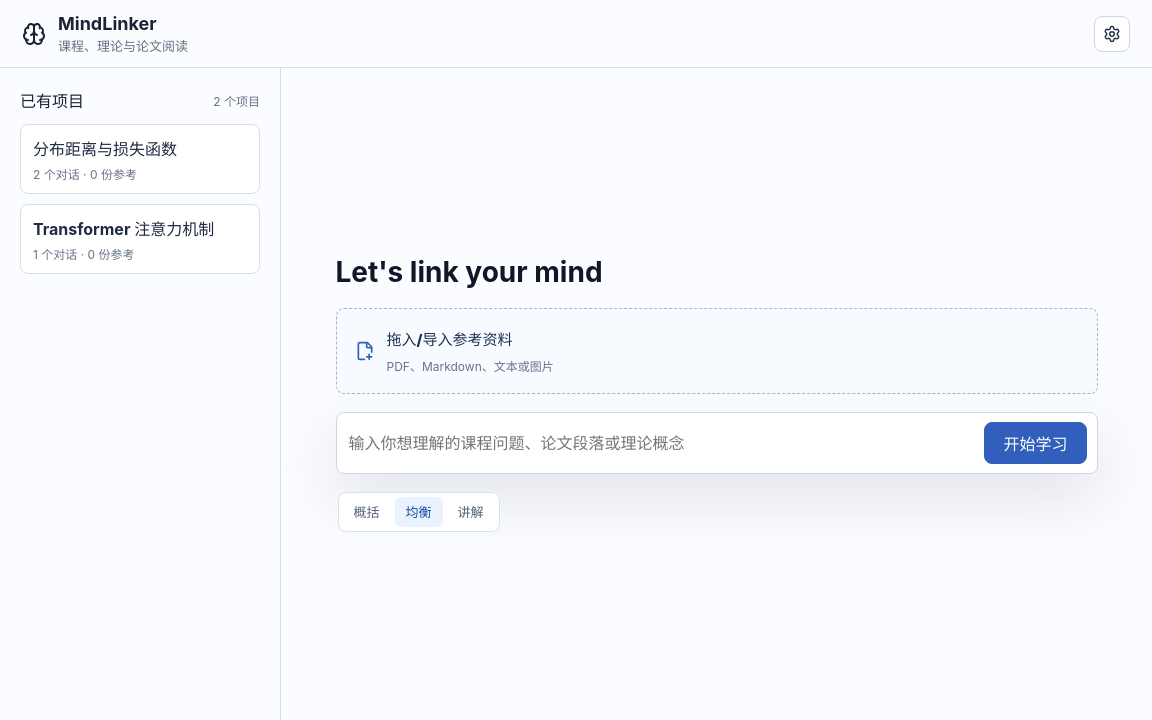
Test: MindLinker shell › strips bare bracket ids from rendered main answers
The width and height of the screenshot is (1152, 720).
Click the button named "打开设置".
click(1112, 34)  # box [1094, 16, 1130, 52]
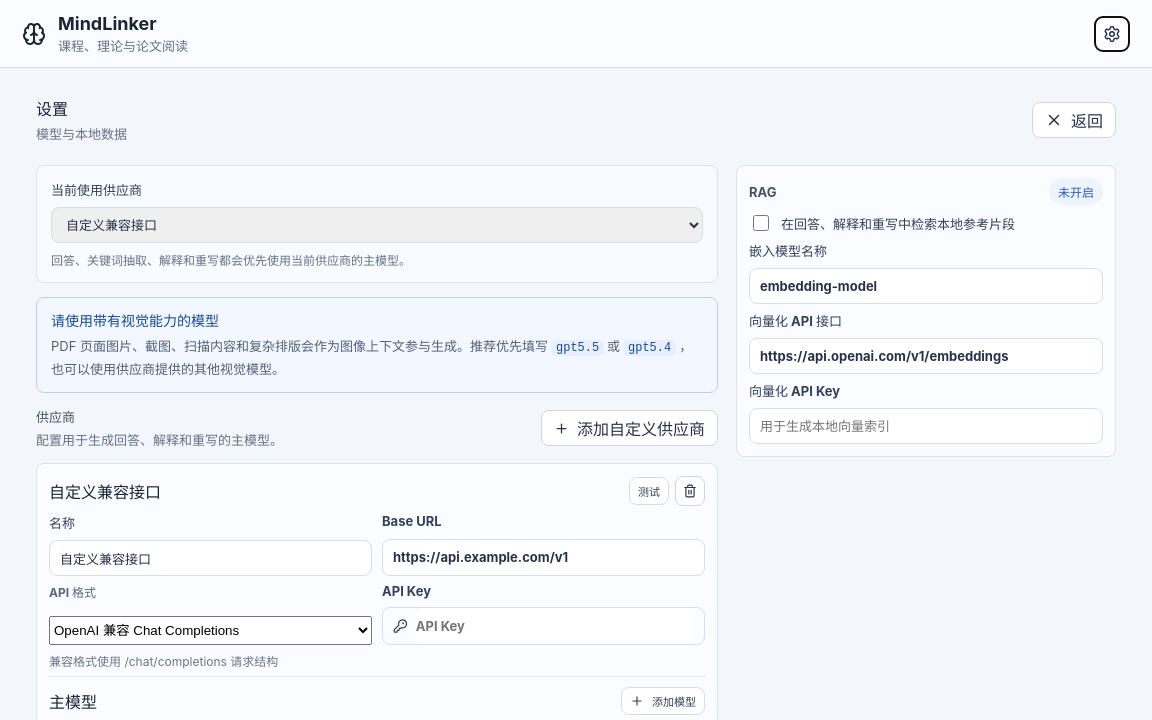
Replace the text in the field named "供应商 custom-compatible Base URL" with "https://api.local.test/v1" at (544, 557), box [382, 539, 705, 576]
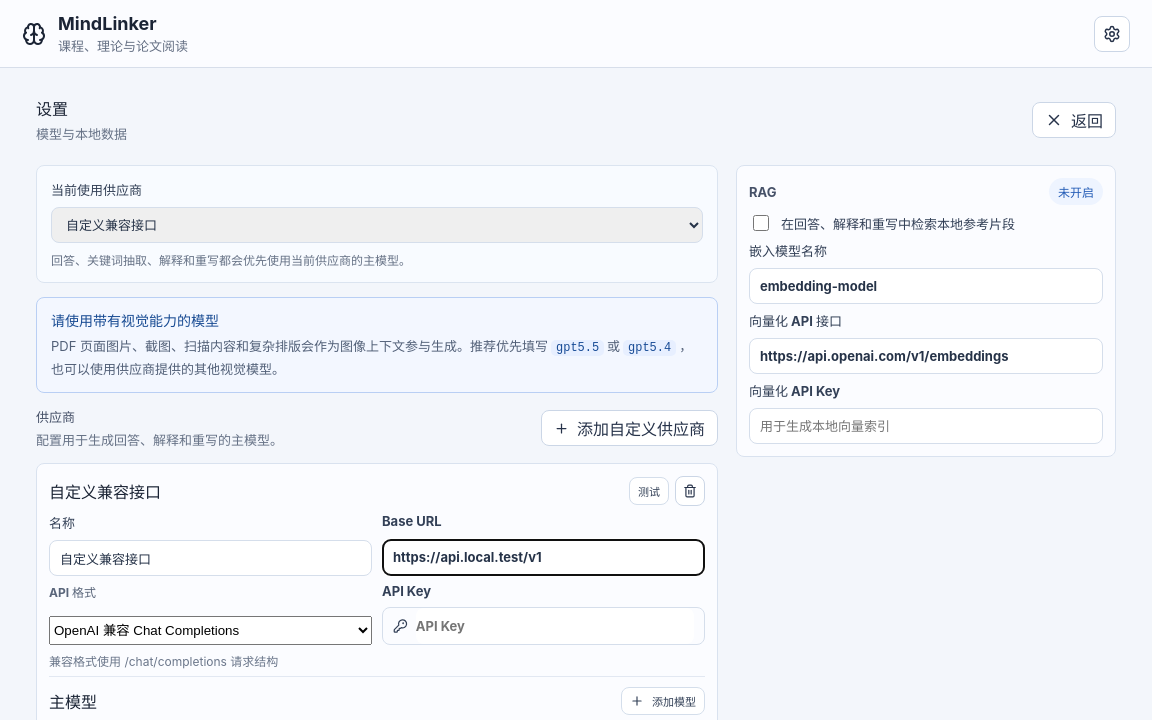
Type "test-token" into the password field named "自定义兼容接口 API Key".
click(555, 626); type("test-token")  # box [416, 608, 694, 644]
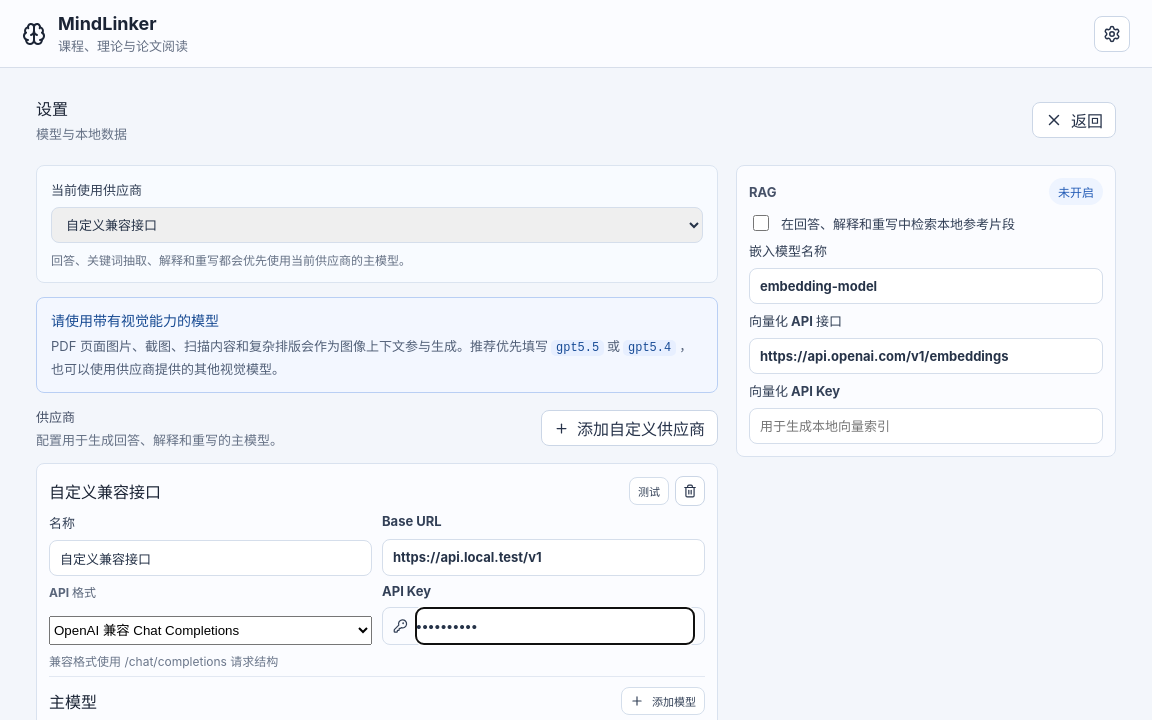
Click the button "返回".
click(1074, 120)  # box [1032, 102, 1116, 138]
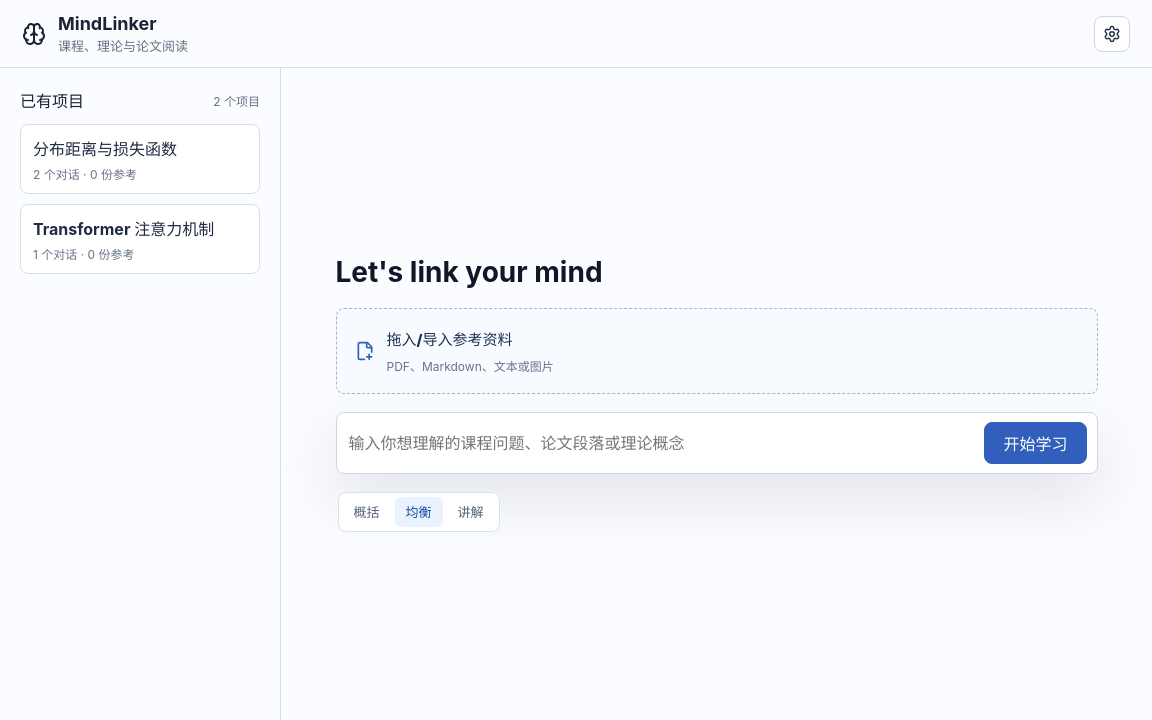
Type "解释 Jensen" into the field named "学习问题".
click(660, 443); type("解释 Jensen")  # box [346, 423, 974, 463]
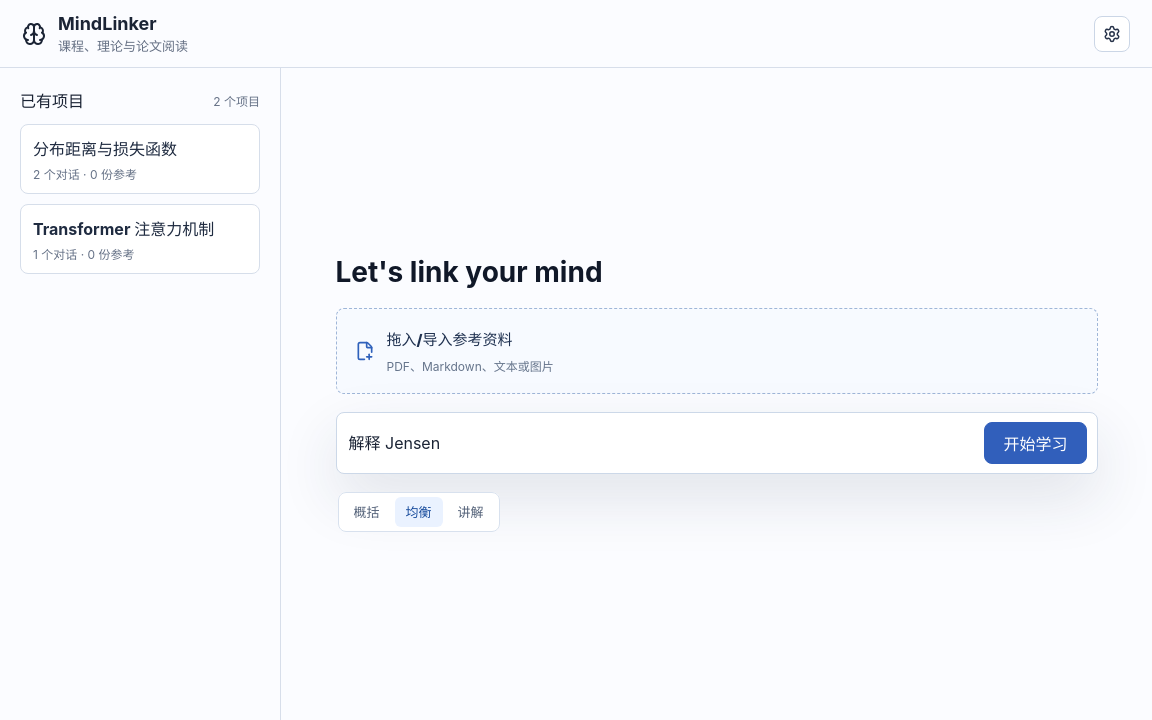
Click the button "开始学习".
click(1036, 443)  # box [984, 422, 1086, 464]
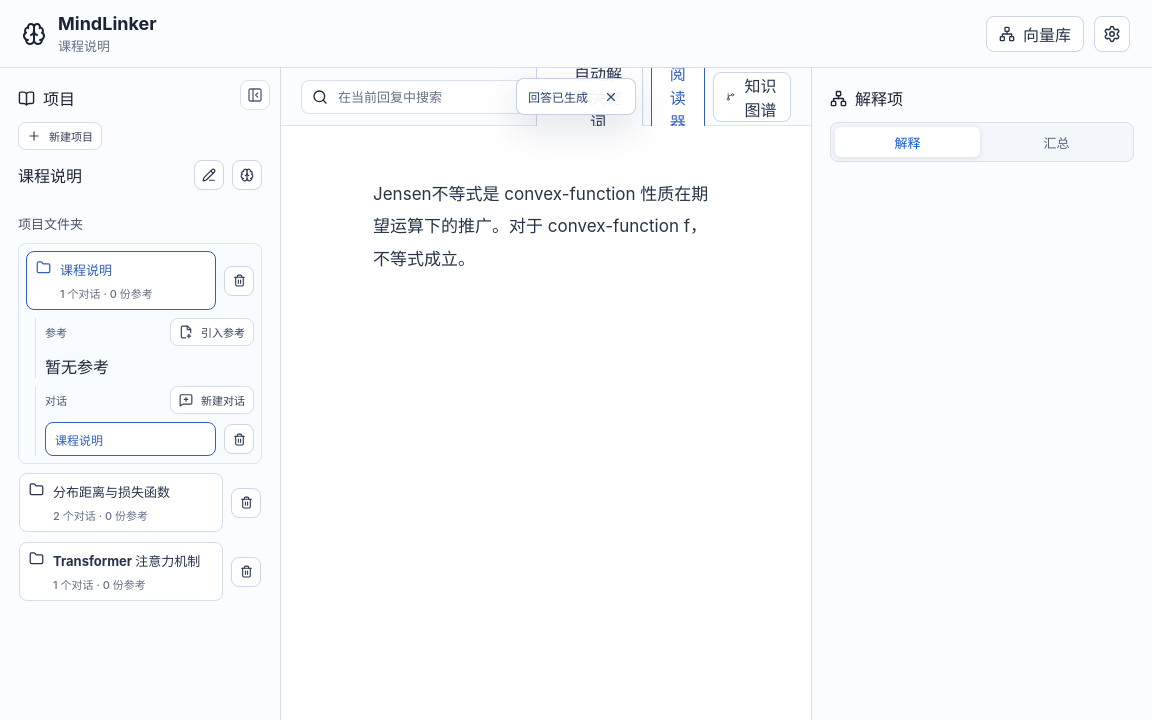
Expected: the text "Jensen不等式是 convex-function 性质" is shown, [373, 184, 708, 269]
